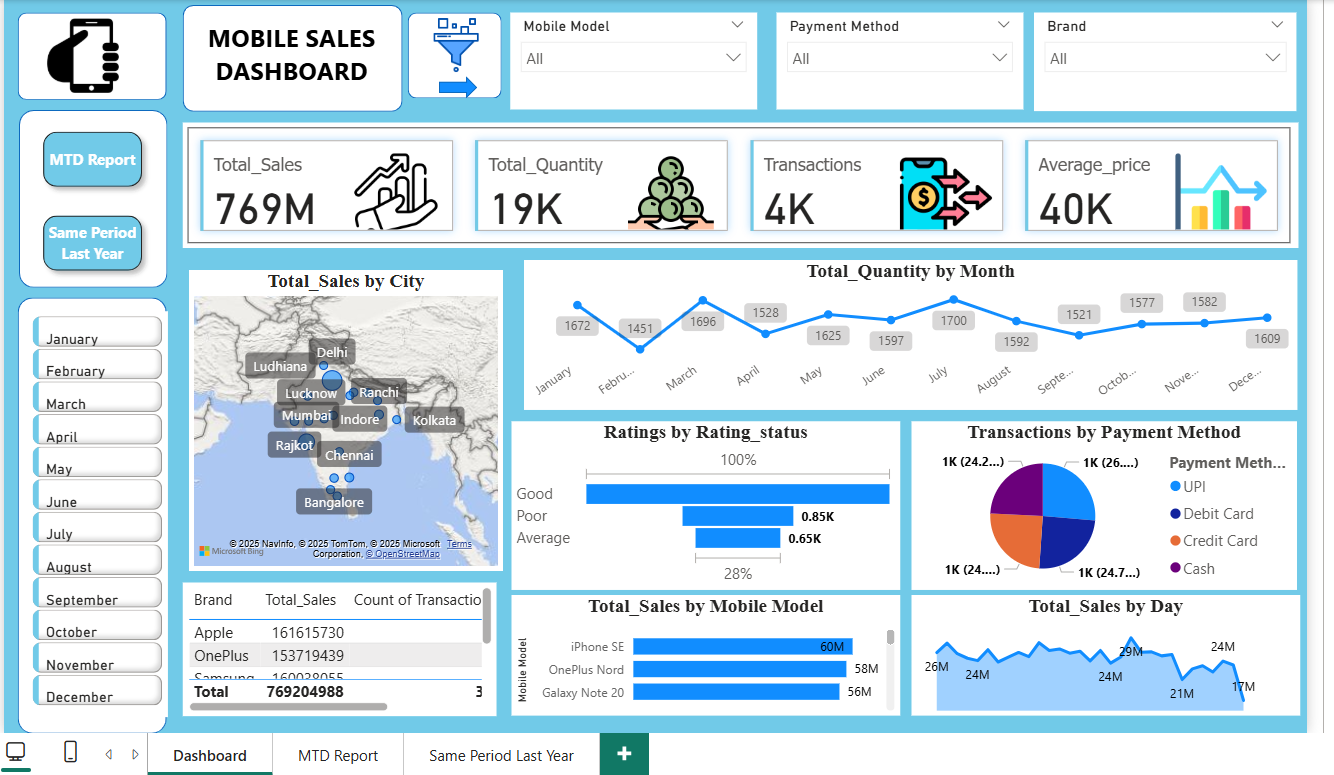

The dashboard page shown, as its layout file describes it:
{"tool":"powerbi","page":{"name":"Dashboard","canvas":[1280,720],"ordinal":0},"visuals":[{"type":"shape","box":[14.4,108.2,145.7,174.6],"z":0},{"type":"shape","box":[14.1,292.3,146.2,428.2],"z":1000},{"type":"shape","box":[14.1,12.8,146.2,85.9],"z":2000},{"type":"advancedSlicerVisual","fields":{"Values":["Custom_calender.Date.Variation.Date Hierarchy.Month"]},"box":[23,304.9,137.7,398.4],"z":3000},{"type":"cardVisual","fields":{"Data":["Mobile_sales_data.Total_Sales","Mobile_sales_data.Total_Quantity","Mobile_sales_data.Transactions","Mobile_sales_data.Average_price"]},"box":[175,120.3,1095.3,123.4],"z":4000},{"type":"slicer","fields":{"Values":["Mobile_sales_data.Payment Method"]},"box":[757.8,12.5,242.2,95.3],"z":5000},{"type":"slicer","fields":{"Values":["Mobile_sales_data.Brand"]},"box":[1010.9,12.5,257.8,96.9],"z":6000},{"type":"shape","box":[396.9,12.5,92.2,84.4],"z":7000},{"type":"image","box":[390.6,12.5,107.8,64.1],"z":8000},{"type":"shape","box":[426.6,75,37.5,21.9],"z":9000},{"type":"shape","box":[175,4.7,215.6,104.7],"z":10000},{"type":"textbox","box":[181.2,15.6,201.6,82.8],"z":11000},{"type":"map","fields":{"Category":["Mobile_sales_data.City"],"Size":["Mobile_sales_data.Total_Sales"]},"box":[181.2,265.6,307.8,295.3],"z":12000},{"type":"slicer","fields":{"Values":["Mobile_sales_data.Mobile Model"]},"box":[496.9,12.5,242.2,95.3],"z":13000},{"type":"lineChart","fields":{"Category":["Custom_calender.Date.Variation.Date Hierarchy.Month"],"Y":["Mobile_sales_data.Total_Quantity"]},"box":[510.9,254.7,759.4,146.9],"z":14000},{"type":"funnel","title":"Ratings by Rating_status","fields":{"Y":["CountNonNull(Mobile_sales_data.Customer Ratings)"],"Category":["Mobile_sales_data.Rating_status"]},"box":[498.4,414.1,381.2,165.6],"z":15000},{"type":"pieChart","fields":{"Y":["Mobile_sales_data.Transactions"],"Category":["Mobile_sales_data.Payment Method"]},"box":[890.6,414.1,378.1,165.6],"z":16000},{"type":"clusteredBarChart","fields":{"Y":["Mobile_sales_data.Total_Sales"],"Category":["Mobile_sales_data.Mobile Model"]},"box":[498.4,584.4,381.2,118.8],"z":17000},{"type":"areaChart","fields":{"Category":["Custom_calender.Date.Variation.Date Hierarchy.Day"],"Y":["Mobile_sales_data.Total_Sales"]},"box":[890.6,584.4,381.2,118.8],"z":18000},{"type":"tableEx","fields":{"Values":["Mobile_sales_data.Brand","Mobile_sales_data.Total_Sales","CountNonNull(Mobile_sales_data.Transaction ID)","Mobile_sales_data.Total_Quantity"]},"box":[175,571.9,307.8,131.2],"z":19000},{"type":"pageNavigator","box":[28.9,119.7,115.4,155.8],"z":20000},{"type":"image","box":[14.4,13,125.5,82.2],"z":20001}]}

Visuals, with their boxes on the page's 1280x720 design canvas (x1, y1, x2, y2). These are canvas units, not pixel positions in the 1334x775 screenshot, which may show the page scaled, cropped or inside an application window:
shape: 14,108,160,283
shape: 14,292,160,720
shape: 14,13,160,99
advancedSlicerVisual - Custom_calender.Date.Variation.Date Hierarchy.Month: 23,305,161,703
cardVisual - Mobile_sales_data.Total_Sales x Mobile_sales_data.Total_Quantity: 175,120,1270,244
slicer - Mobile_sales_data.Payment Method: 758,12,1000,108
slicer - Mobile_sales_data.Brand: 1011,12,1269,109
shape: 397,12,489,97
image: 391,12,498,77
shape: 427,75,464,97
shape: 175,5,391,109
textbox: 181,16,383,98
map - Mobile_sales_data.City x Mobile_sales_data.Total_Sales: 181,266,489,561
slicer - Mobile_sales_data.Mobile Model: 497,12,739,108
lineChart - Custom_calender.Date.Variation.Date Hierarchy.Month x Mobile_sales_data.Total_Quantity: 511,255,1270,402
"Ratings by Rating_status" funnel: 498,414,880,580
pieChart - Mobile_sales_data.Transactions x Mobile_sales_data.Payment Method: 891,414,1269,580
clusteredBarChart - Mobile_sales_data.Total_Sales x Mobile_sales_data.Mobile Model: 498,584,880,703
areaChart - Custom_calender.Date.Variation.Date Hierarchy.Day x Mobile_sales_data.Total_Sales: 891,584,1272,703
tableEx - Mobile_sales_data.Brand x Mobile_sales_data.Total_Sales: 175,572,483,703
pageNavigator: 29,120,144,276
image: 14,13,140,95
